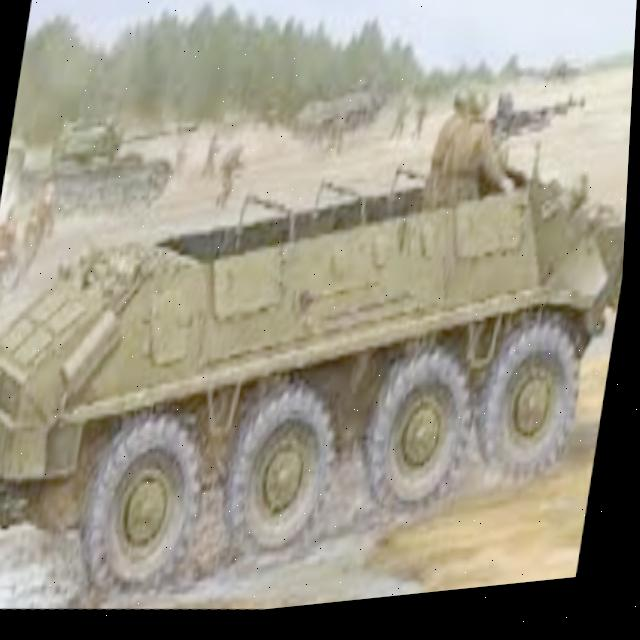MIL_APC: (0, 120, 633, 622)
